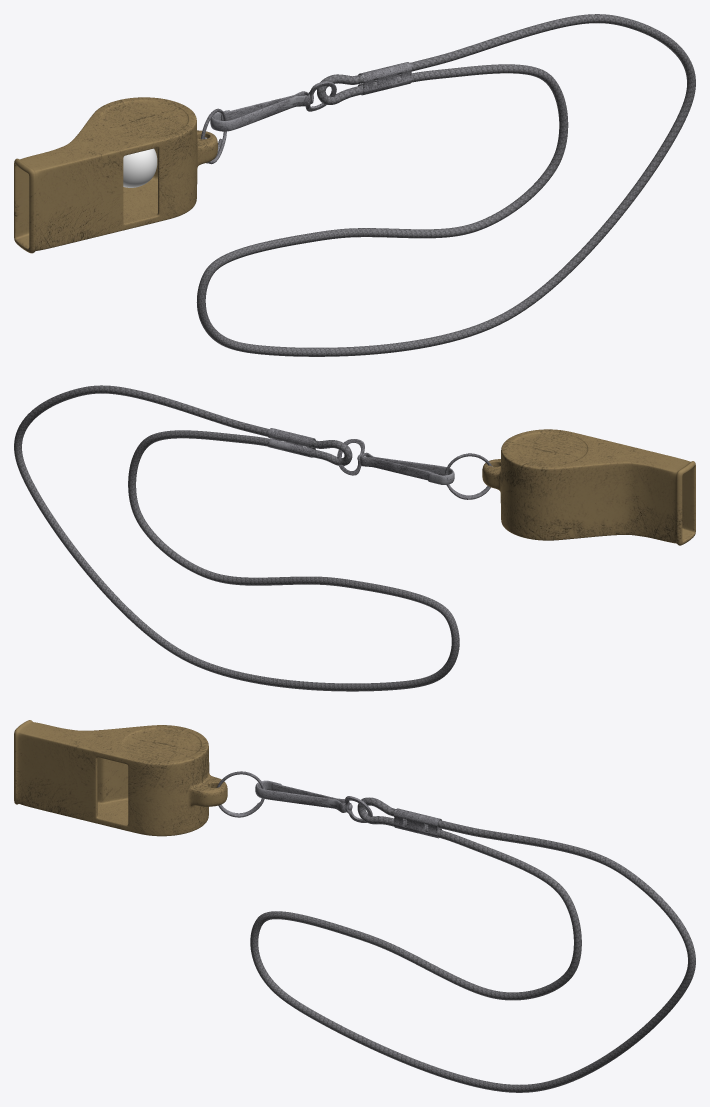
The model's file is whistle.obj.
3 renders of one model, top to bottom at view 1: azimuth 30°, elevation 25°; view 2: azimuth 150°, elevation 25°; view 3: azimuth 330°, elevation 25°, orthographic. The views are drawn at different scales.
Visible parts, largest first — view 1: whistle, rope, metal, ball; view 2: whistle, rope, metal; view 3: whistle, rope, metal.
Part boxes in pixels (left/top/right/bottom): whistle: left=14, top=97, right=217, bottom=253; rope: left=196, top=14, right=695, bottom=356; metal: left=201, top=62, right=411, bottom=164; ball: left=123, top=148, right=157, bottom=187; whistle: left=482, top=429, right=695, bottom=545; rope: left=14, top=385, right=459, bottom=691; metal: left=267, top=428, right=492, bottom=499; whistle: left=14, top=720, right=227, bottom=836; rope: left=250, top=797, right=695, bottom=1092; metal: left=217, top=771, right=441, bottom=838.
Size of the model in its own units: 23.65 by 10.17 by 3.09.
Materials: 4 (4 with a texture image).
